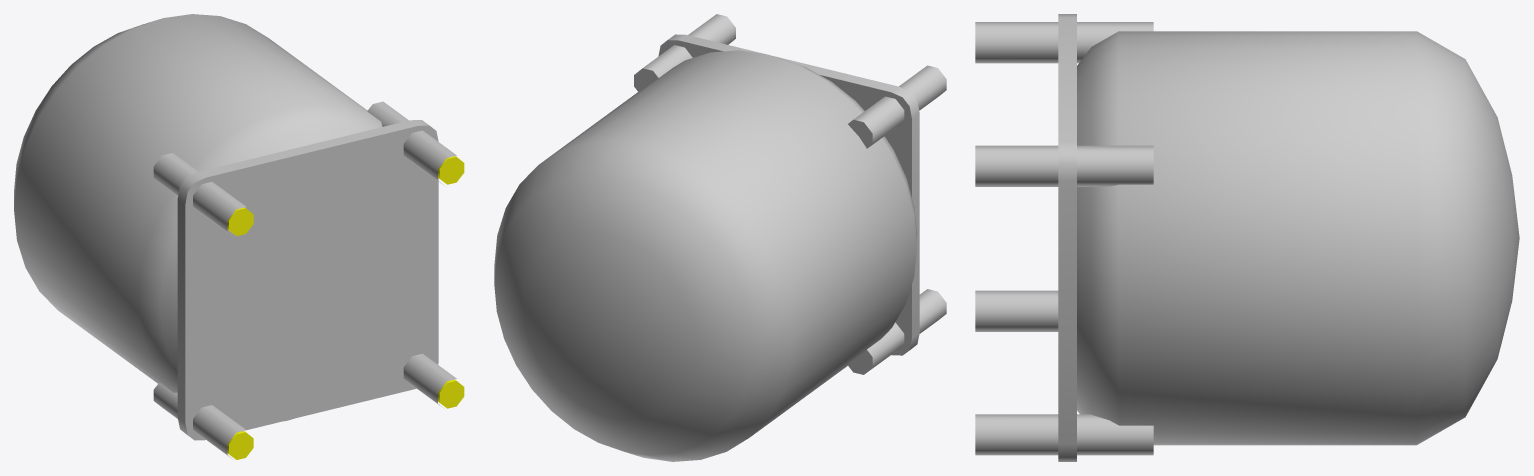
The model's file is sm_hana_bas_water_treatment_unit.glb.
The picture shows the model from 3 angles, left to right: view 1: azimuth 30°, elevation 25°; view 2: azimuth 150°, elevation 25°; view 3: azimuth 270°, elevation 25°; orthographic projection. The views are drawn at different scales.
Parts seen in each view (by area): view 1: sm_color_common, sm_hana_bas_water_treatment_unit; view 2: sm_color_common; view 3: sm_color_common.
Part boxes in pixels (<box>): sm_color_common: <box>14,14,456,459</box>; sm_hana_bas_water_treatment_unit: <box>227,156,464,459</box>; sm_color_common: <box>494,14,946,461</box>; sm_color_common: <box>975,14,1519,461</box>.
Bounding box in the file's own units: 1.59 × 1.59 × 2.08.
2 materials, 1 textured.
